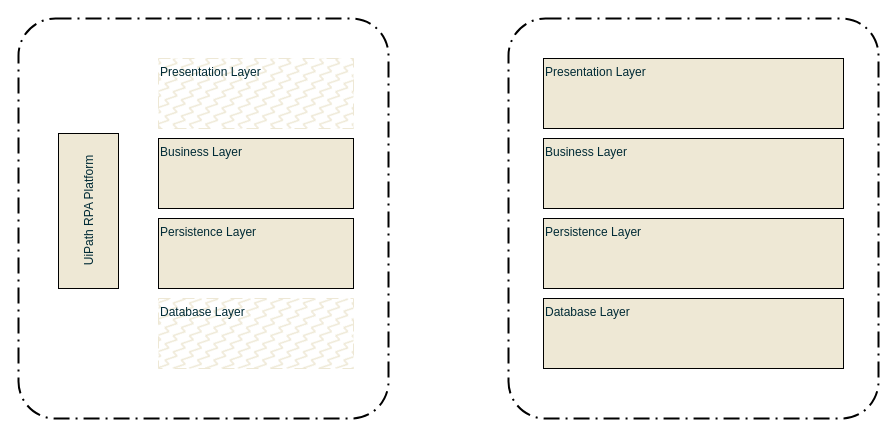
Image size: 896x436. Some labels were removed from this diagram. Here are the shapes that lost their labels. From the top down, the box of each, then its label:
(17, 17, 389, 419): RPA UiPath unattended process
(507, 17, 879, 419): Any Generic Automated System
